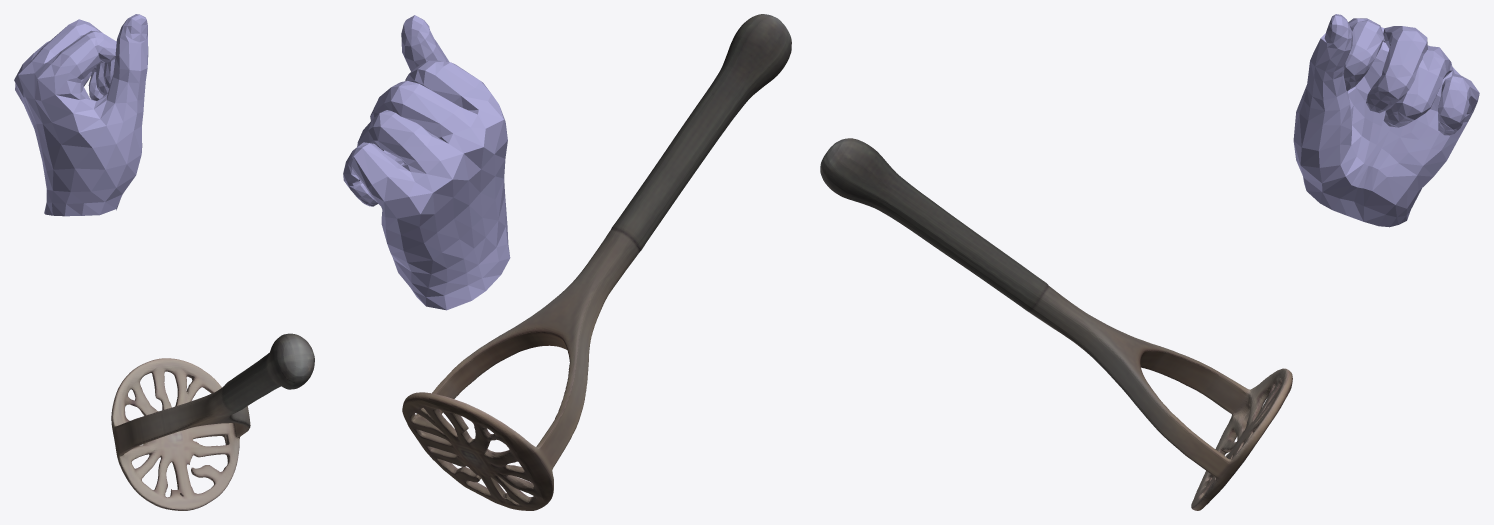
Rendered from frame_0083_source_000083_hand_object.glb.
The picture shows the model from 3 angles, left to right: view 1: azimuth 30°, elevation 25°; view 2: azimuth 150°, elevation 25°; view 3: azimuth 270°, elevation 25°; orthographic projection. The views are drawn at different scales.
Visible parts, largest first — view 1: world; view 2: world; view 3: world.
Part boxes in pixels (x1,y1,x2,y2): world: (14,14,314,510); world: (343,14,791,510); world: (820,14,1479,510).
Bounding box in the file's own units: 0.0873 × 0.2688 × 0.3245.
